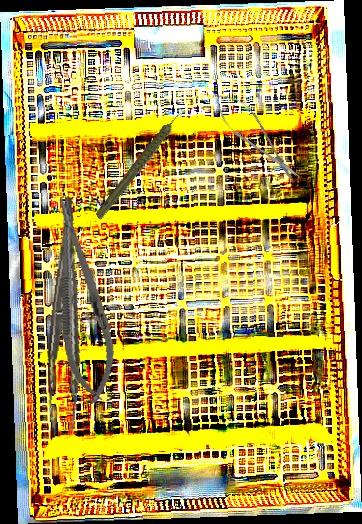Handpiece: (77, 109, 206, 221)
Micro Scissor: (205, 84, 310, 192)
Needle Holder: (39, 192, 124, 407)
Tissue Forceps: (36, 196, 102, 434)
